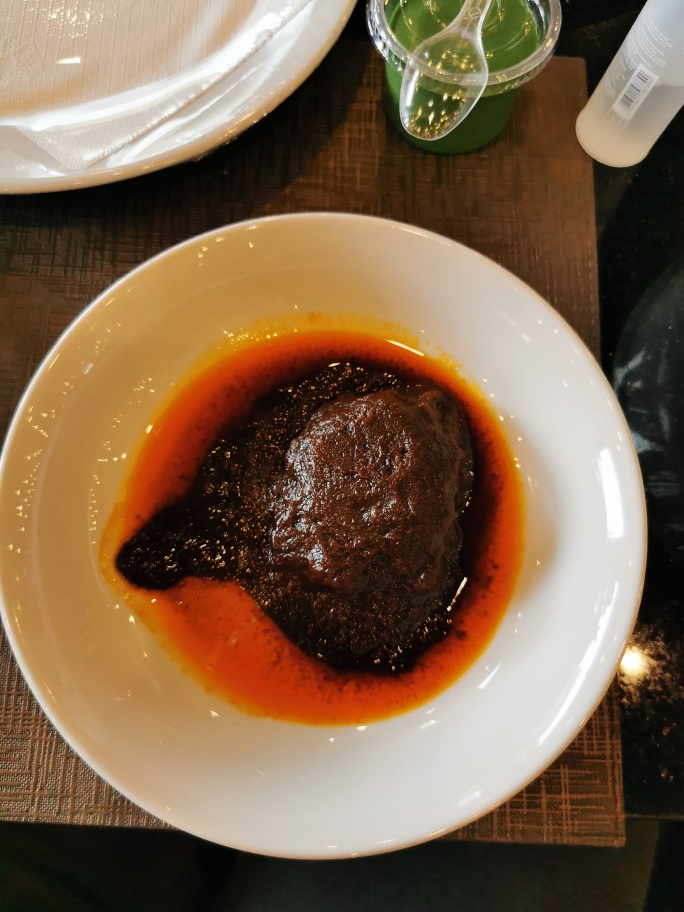rendang: (180, 345, 490, 683)
